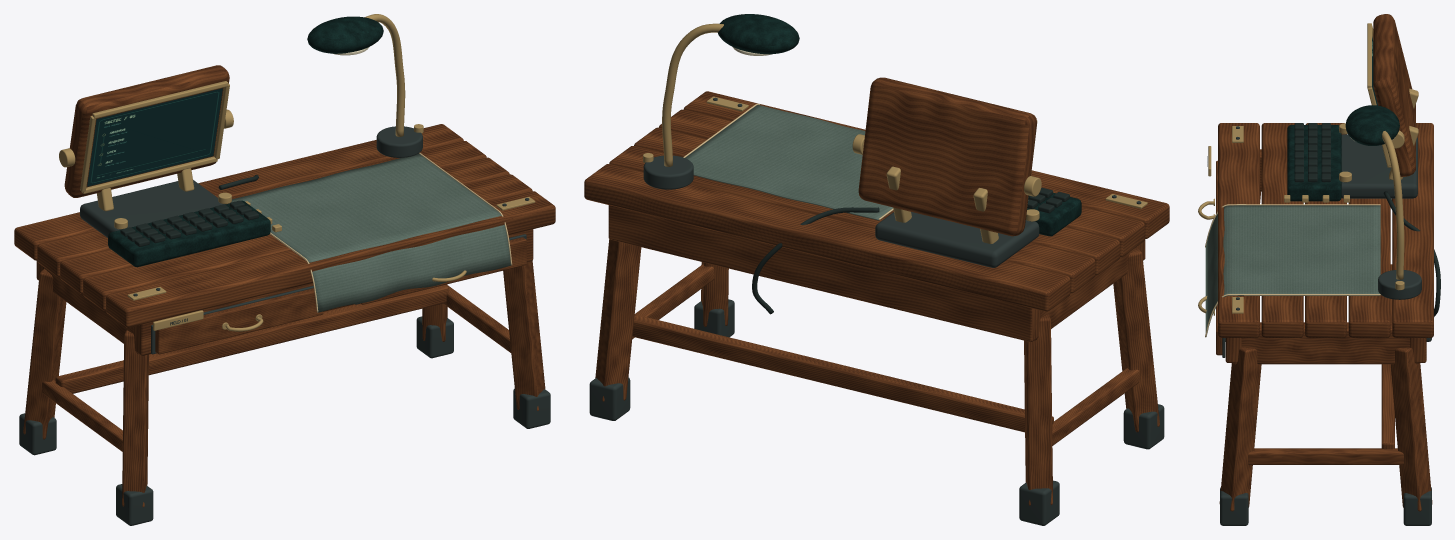
The model's file is tactical_workbench.glb.
3 renders of one model, left to right at view 1: azimuth 30°, elevation 25°; view 2: azimuth 150°, elevation 25°; view 3: azimuth 270°, elevation 25°, orthographic. The views are drawn at different scales.
Visible parts, largest first — view 1: Woven working mat, Walnut top plank 1, Recessed tactical display, Lower long stretcher, Walnut top plank 5, Walnut top plank 2, Wood framed terminal, Drawer front, Splayed wooden leg.002, Splayed wooden leg.001, Leather command deck, Terminal heel (+18 smaller); view 2: Wood framed terminal, Walnut top plank 5, Rear hardwood apron, Woven working mat, Lower long stretcher, Splayed wooden leg.003, Terminal heel, Splayed wooden leg, Walnut top plank 4, Splayed wooden leg.001, Walnut top plank 1, Walnut top plank 2 (+14 smaller); view 3: Woven working mat, Walnut top plank 5, Walnut top plank 1, Splayed wooden leg.002, Splayed wooden leg.003, Side frame.001, Walnut top plank 2, Wood framed terminal, Terminal heel, Walnut top plank 4, Low side stretcher.001, Leather command deck (+13 smaller).
Part boxes in pixels (x1,y1,x2,y2): Woven working mat: (231,153,511,312); Walnut top plank 1: (106,191,555,327); Recessed tactical display: (87,88,222,186); Lower long stretcher: (55,285,448,393); Walnut top plank 5: (14,124,463,260); Walnut top plank 2: (83,174,532,310); Wood framed terminal: (64,65,229,197); Drawer front: (155,288,323,354); Splayed wooden leg.002: (503,260,545,410); Splayed wooden leg.001: (23,269,66,439); Leather command deck: (108,200,270,267); Terminal heel: (80,180,225,237); Wood framed terminal: (858,77,1036,236); Walnut top plank 5: (584,164,1070,311); Rear hardwood apron: (608,205,1040,341); Woven working mat: (685,105,892,220); Lower long stretcher: (632,315,1053,432); Splayed wooden leg.003: (595,239,641,401); Terminal heel: (875,212,1039,267); Splayed wooden leg: (1113,248,1159,432); Walnut top plank 4: (609,146,1095,293); Splayed wooden leg.001: (1024,314,1052,505); Walnut top plank 1: (683,91,1169,238); Walnut top plank 2: (659,109,1144,257); Woven working mat: (1205,205,1380,336); Walnut top plank 5: (1392,123,1433,337); Walnut top plank 1: (1218,123,1259,337); Splayed wooden leg.002: (1219,347,1261,511); Splayed wooden leg.003: (1390,347,1432,511); Side frame.001: (1233,322,1418,364); Walnut top plank 2: (1261,123,1303,337); Wood framed terminal: (1373,14,1415,176); Terminal heel: (1341,134,1417,198); Walnut top plank 4: (1348,198,1390,337); Low side stretcher.001: (1248,448,1403,464); Leather command deck: (1287,125,1341,201).
Bounding box in the file's own units: 1.82 × 1.51 × 0.937.
Materials: 9 (4 with a texture image).
